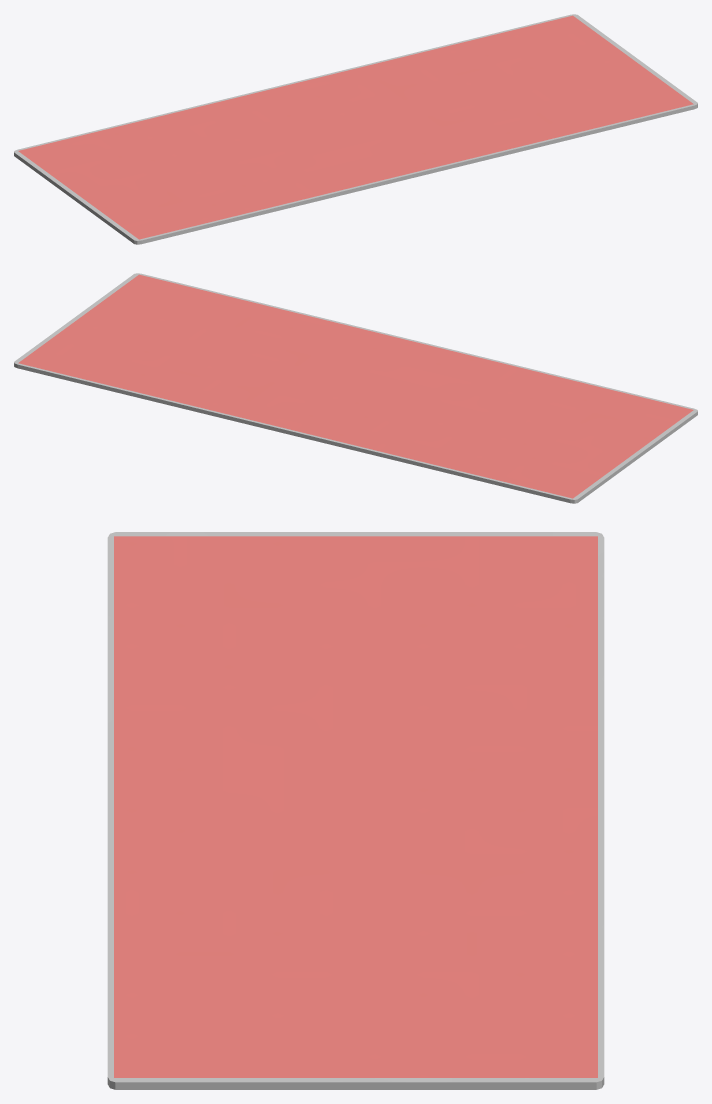
The model's file is Mouse_Pad_01_03.fbx.
3 views of the same model, one above another, from view 1: azimuth 30°, elevation 25°; view 2: azimuth 150°, elevation 25°; view 3: azimuth 270°, elevation 25° (orthographic). The views are drawn at different scales.
Visible parts, largest first — view 1: Mouse_Pad_01_03; view 2: Mouse_Pad_01_03; view 3: Mouse_Pad_01_03.
Boxes of the visible parts, bbox=[...] form: Mouse_Pad_01_03: bbox=[14, 14, 697, 244]; Mouse_Pad_01_03: bbox=[14, 273, 697, 503]; Mouse_Pad_01_03: bbox=[107, 532, 604, 1089].
Bounding box in the file's own units: 1.21 × 0.00776 × 0.4621.
